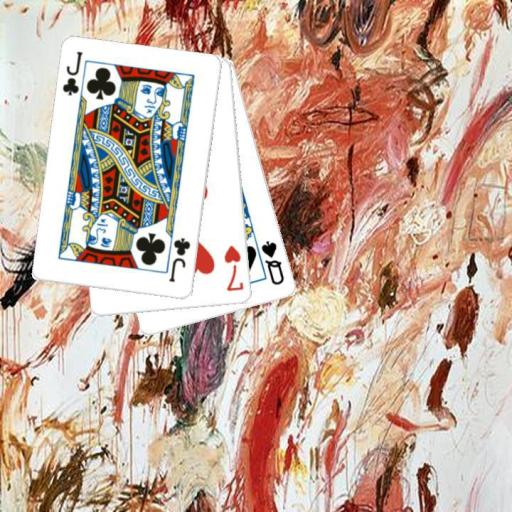7H: (221, 242, 245, 293)
JC: (166, 236, 193, 285), (59, 49, 85, 97)
QS: (258, 238, 286, 287)
